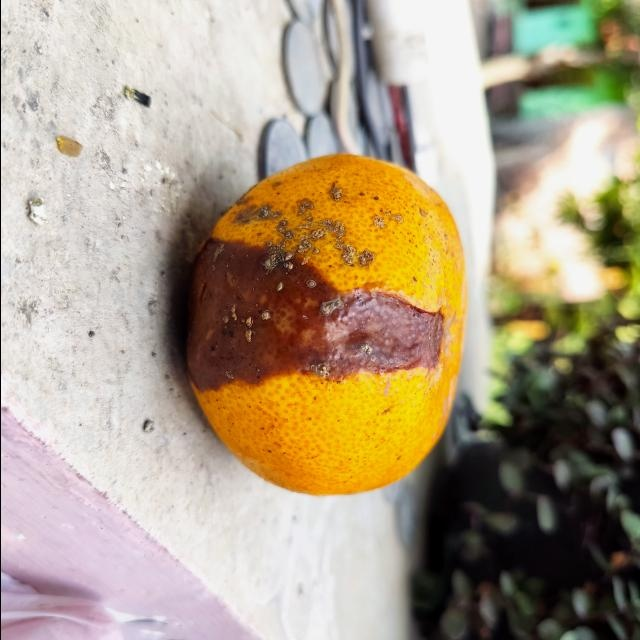agrume: (172, 151, 468, 499)
